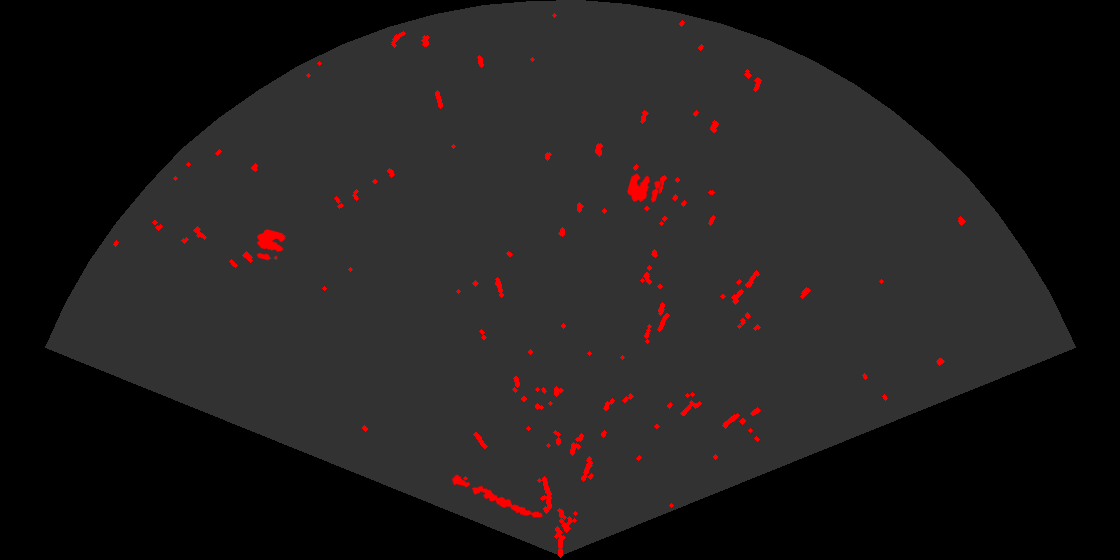ball: (626, 172, 662, 204), (255, 228, 287, 262)
chain: (449, 473, 544, 519)
